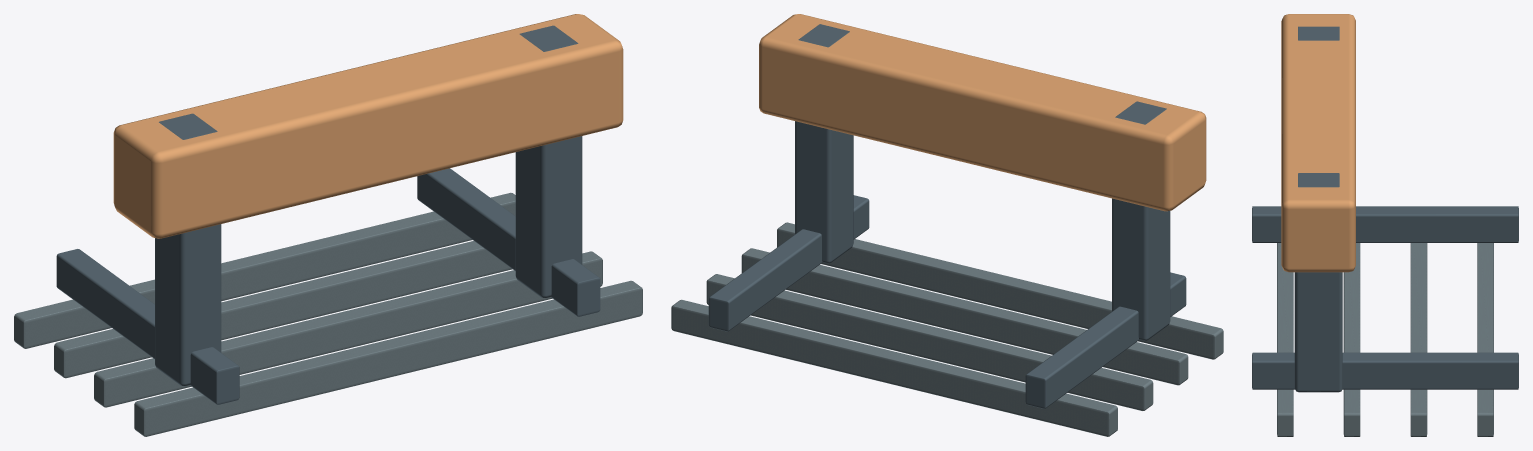
Rendered from dwarven-runeforge-dungeon-dwarven-runeforge-dungeon-tr-44b098be__28603.glb.
The picture shows the model from 3 angles, left to right: view 1: azimuth 30°, elevation 25°; view 2: azimuth 150°, elevation 25°; view 3: azimuth 270°, elevation 25°; orthographic projection. The views are drawn at different scales.
Visible parts, largest first — view 1: dwarven-runeforge-dungeon-trolley-buffer; view 2: dwarven-runeforge-dungeon-trolley-buffer; view 3: dwarven-runeforge-dungeon-trolley-buffer.
Part boxes in pixels (x1,y1,x2,y2): dwarven-runeforge-dungeon-trolley-buffer: [14, 14, 642, 436]; dwarven-runeforge-dungeon-trolley-buffer: [671, 14, 1223, 436]; dwarven-runeforge-dungeon-trolley-buffer: [1252, 14, 1518, 436].
Bounding box in the file's own units: 1.8 × 0.9512 × 1.
3 materials, 1 textured.
